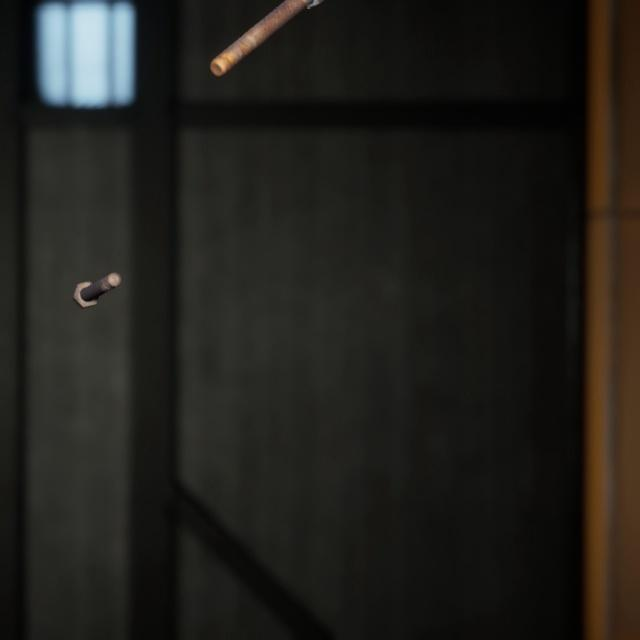bolt: (205, 0, 309, 71), (67, 250, 126, 296)
